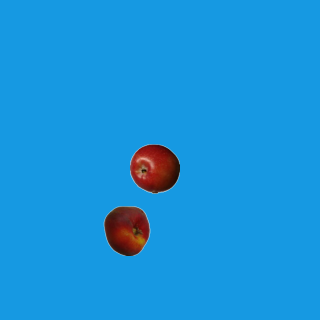Apple Braeburn: (129, 143, 179, 193)
Nectarine Flat: (101, 205, 151, 255)
